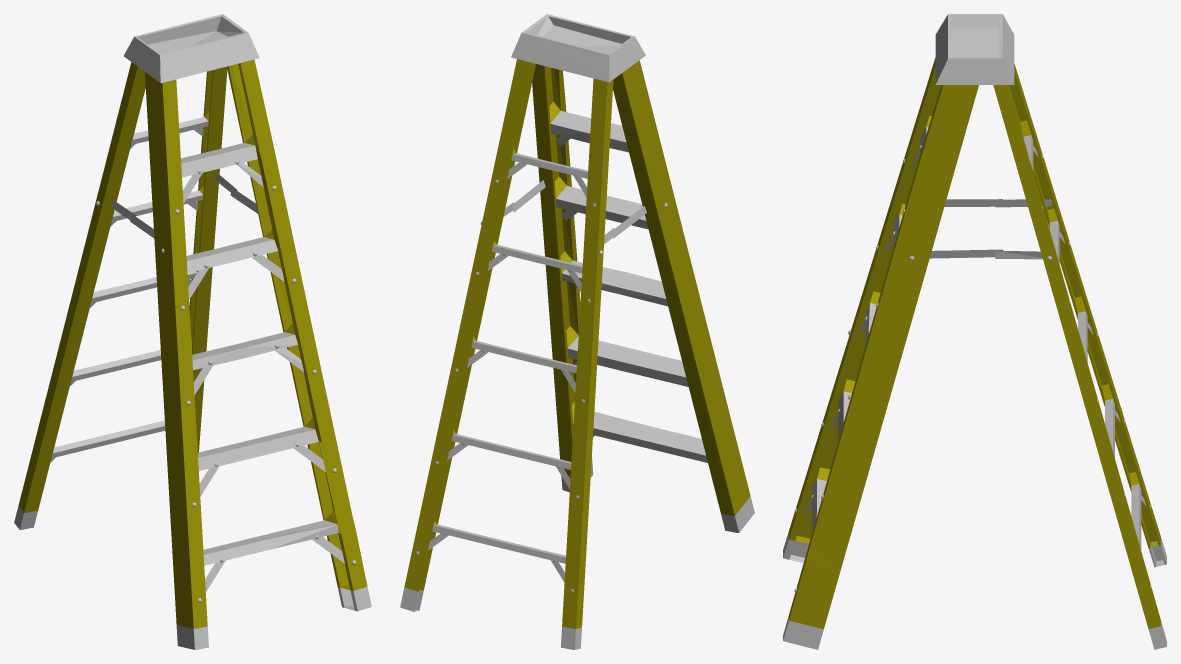
Rendered from ladder_dvnobles.obj.
3 renders of one model, left to right at view 1: azimuth 30°, elevation 25°; view 2: azimuth 150°, elevation 25°; view 3: azimuth 270°, elevation 25°, orthographic. The views are drawn at different scales.
Visible parts, largest first — view 1: LadderFront_Cube.001, LadderRear_Cube.002, LadderTop_Cube.003; view 2: LadderFront_Cube.001, LadderRear_Cube.002, LadderTop_Cube.003, Brace_front_Cube.004; view 3: LadderFront_Cube.001, LadderRear_Cube.002, LadderTop_Cube.003, Brace_front_Cube.004, Brace_Rear_Cube.005.
Part boxes in pixels (box(x1,y1,x2,y2)): LadderFront_Cube.001: box(145, 59, 371, 649); LadderRear_Cube.002: box(14, 62, 227, 529); LadderTop_Cube.003: box(123, 14, 259, 83); LadderFront_Cube.001: box(532, 60, 754, 532); LadderRear_Cube.002: box(400, 59, 613, 649); LadderTop_Cube.003: box(511, 14, 645, 82); Brace_front_Cube.004: box(512, 180, 646, 238); LadderFront_Cube.001: box(783, 57, 978, 649); LadderRear_Cube.002: box(993, 63, 1166, 649); LadderTop_Cube.003: box(935, 14, 1014, 84); Brace_front_Cube.004: box(929, 199, 1002, 258); Brace_Rear_Cube.005: box(995, 199, 1051, 259).
Size of the model in its own units: 0.9906 by 2.85 by 1.74.
